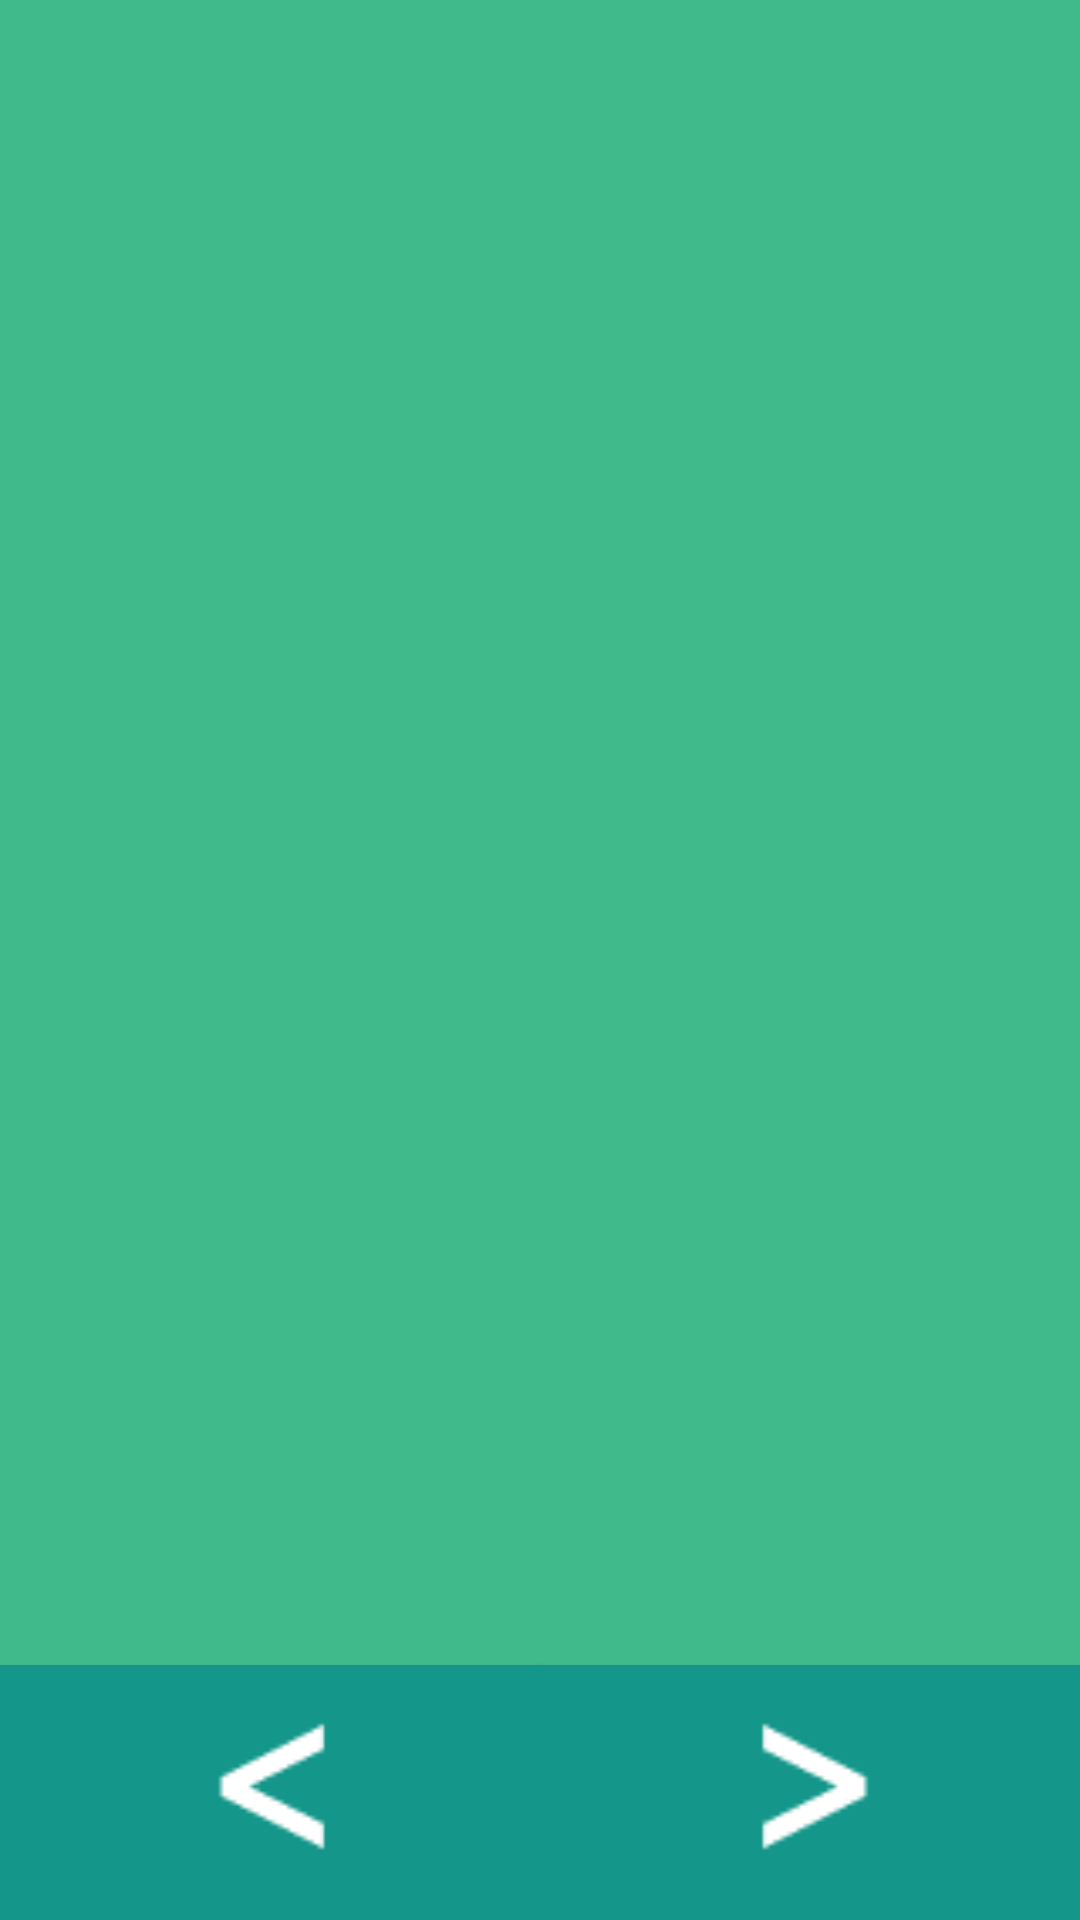

Locate icon controls on the screen. Image size 1080 × 1920, boxes as box=[x1, y1, x2, y2].
lesson backward: box=[218, 1723, 325, 1850]
lesson forward: box=[761, 1723, 868, 1850]
